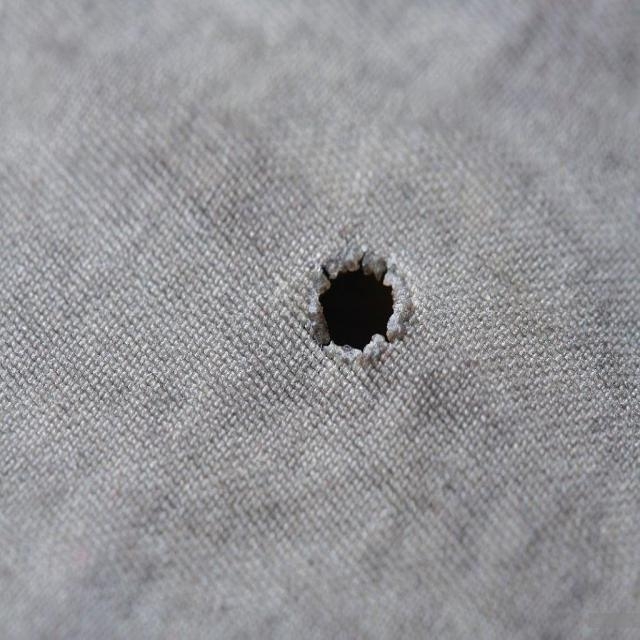Hole: (307, 243, 412, 372)
